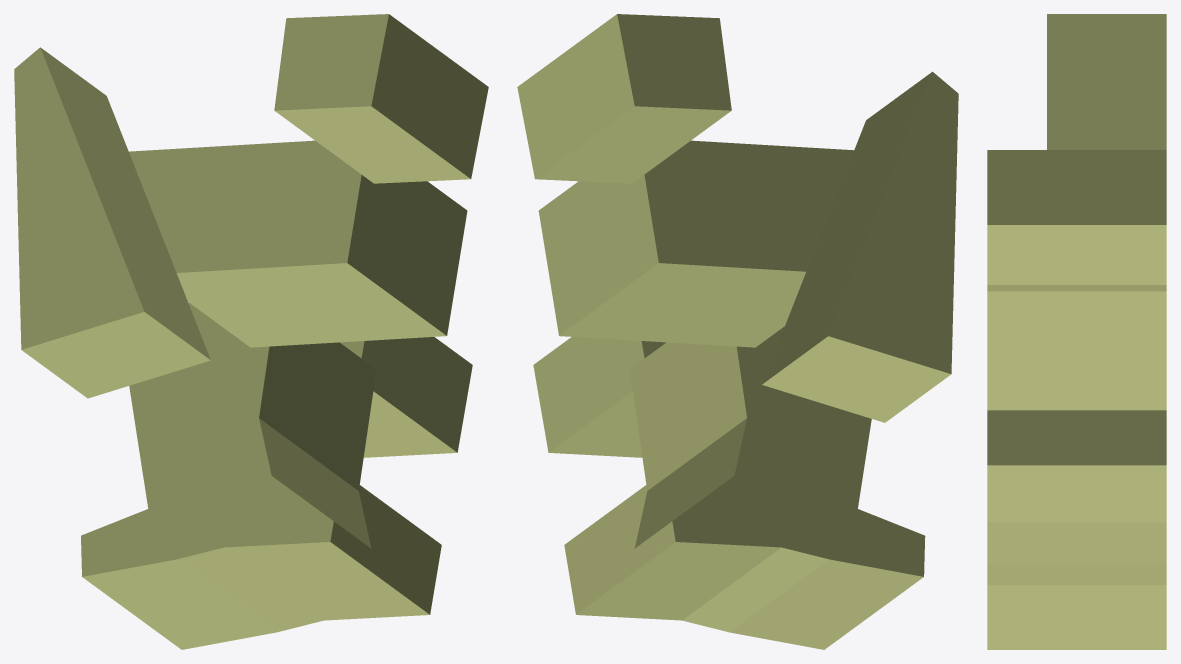
3 renders of one model, left to right at view 1: azimuth 30°, elevation 25°; view 2: azimuth 150°, elevation 25°; view 3: azimuth 270°, elevation 25°, orthographic. The views are drawn at different scales.
Visible parts, largest first — view 1: 0_1_0_0_1_0_2_2_1_3; view 2: 0_1_0_0_1_0_2_2_1_3; view 3: 0_1_0_0_1_0_2_2_1_3.
Part boxes in pixels (bbox=[...]): 0_1_0_0_1_0_2_2_1_3: bbox=[14, 14, 488, 649]; 0_1_0_0_1_0_2_2_1_3: bbox=[517, 14, 958, 649]; 0_1_0_0_1_0_2_2_1_3: bbox=[987, 14, 1166, 649].
Size of the model in its own units: 19.52 by 28.14 by 9.
